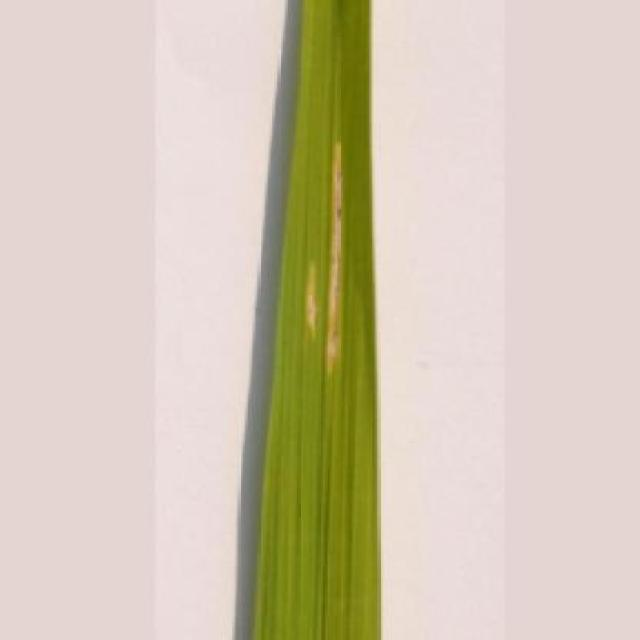Brown_Spot: (250, 0, 384, 640)
